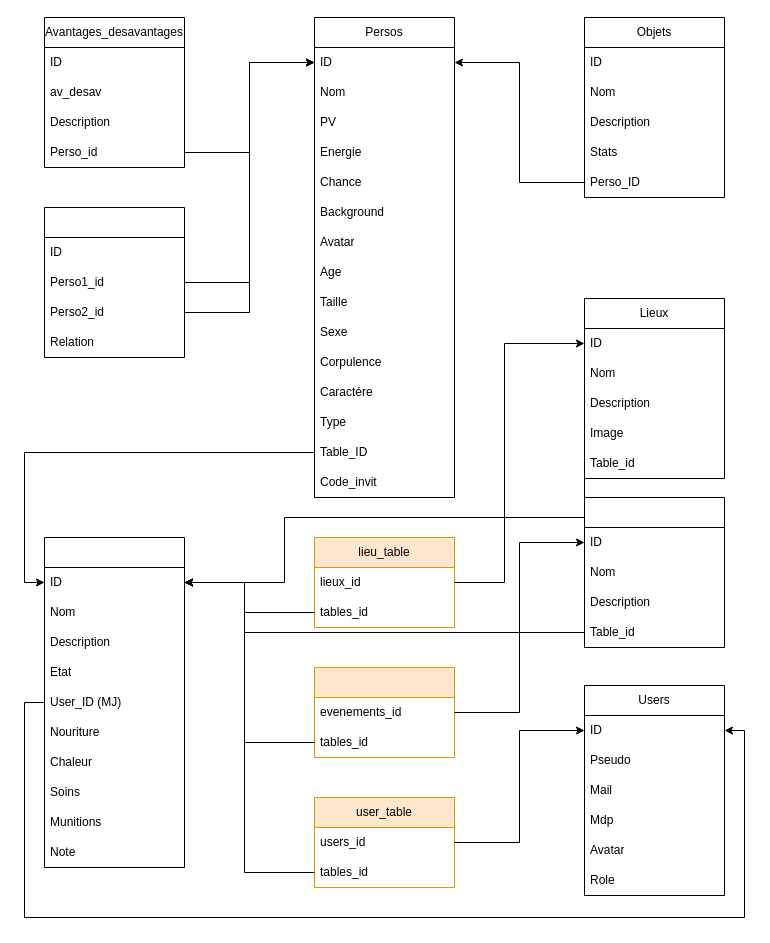
The diagram is 770 pixels wide and 943 high, and some of its shapes have lost their labels. Here are the shapes that lost their labels. From the top down, the box of each, then its label:
(44, 206, 184, 358): Relations
(584, 496, 724, 648): Evenements
(44, 536, 184, 868): Tables
(314, 666, 454, 758): evenements_tables
